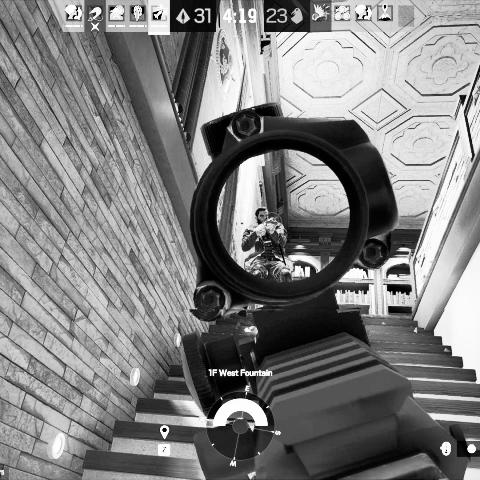Character: (236, 206, 294, 318)
Head: (255, 206, 268, 224)
